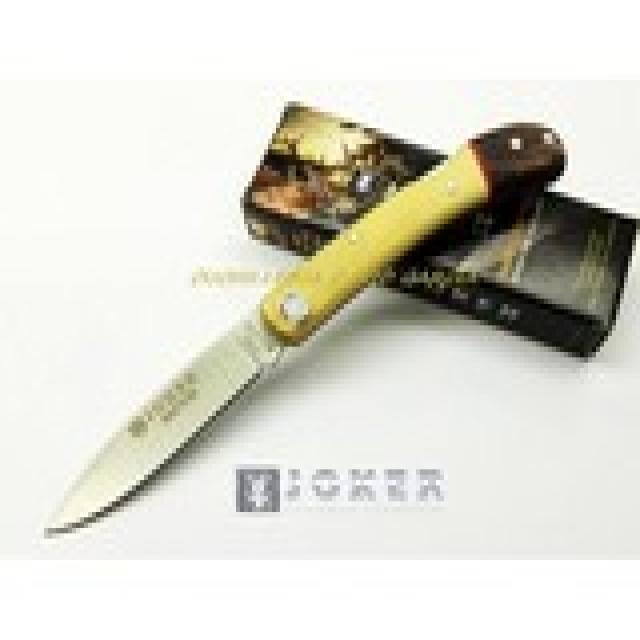Knife: (36, 114, 569, 554)
